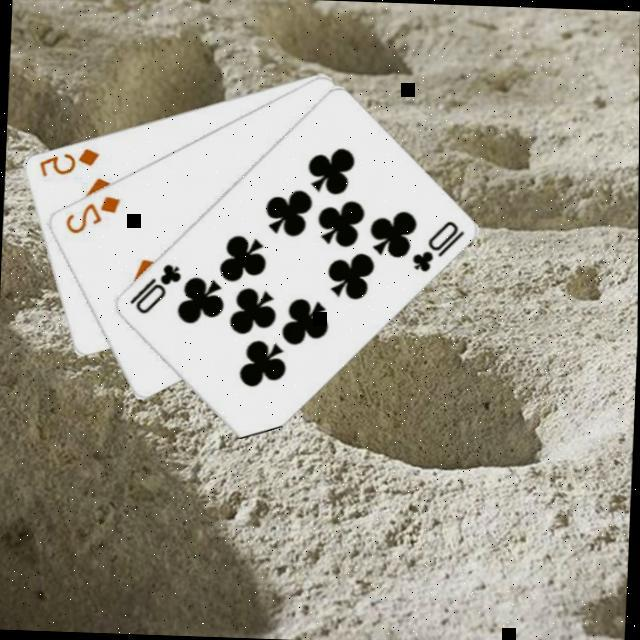10C: (123, 257, 183, 317), (405, 215, 465, 275)
2D: (59, 189, 121, 237)
5D: (34, 142, 100, 180)
